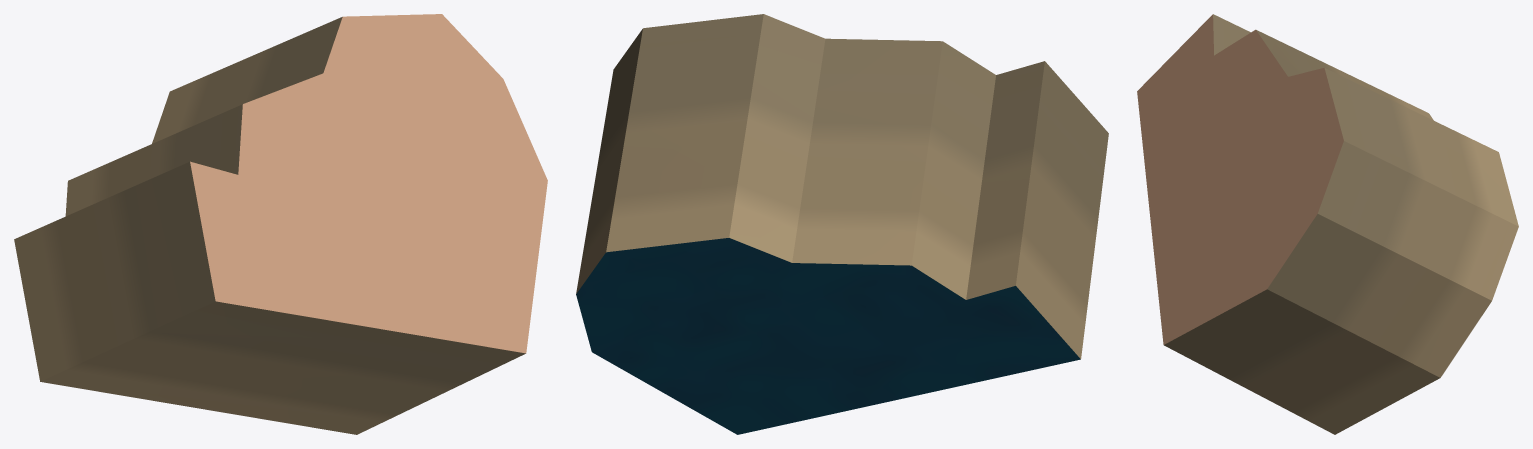
Rendered from 0699_Belarus.glb.
3 views of the same model, side by side, from view 1: azimuth 30°, elevation 25°; view 2: azimuth 150°, elevation 25°; view 3: azimuth 270°, elevation 25° (orthographic). The views are drawn at different scales.
Parts seen in each view (by area): view 1: part_0; view 2: part_0; view 3: part_0.
Boxes of the visible parts, x1,y1,x2,y2 form: part_0: [14, 14, 547, 434]; part_0: [576, 14, 1108, 434]; part_0: [1137, 14, 1518, 434].
Bounding box in the file's own units: 0.4172 × 0.3529 × 0.3403.
1 material, 1 textured.
